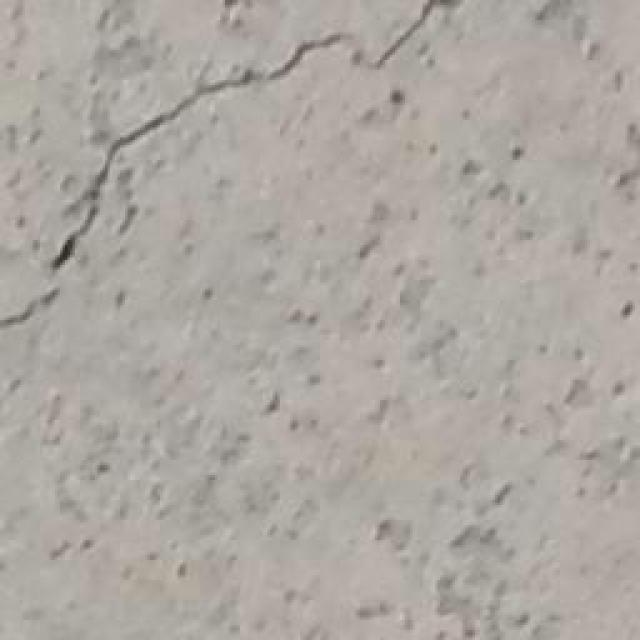concrete-crack: (51, 0, 464, 274)
